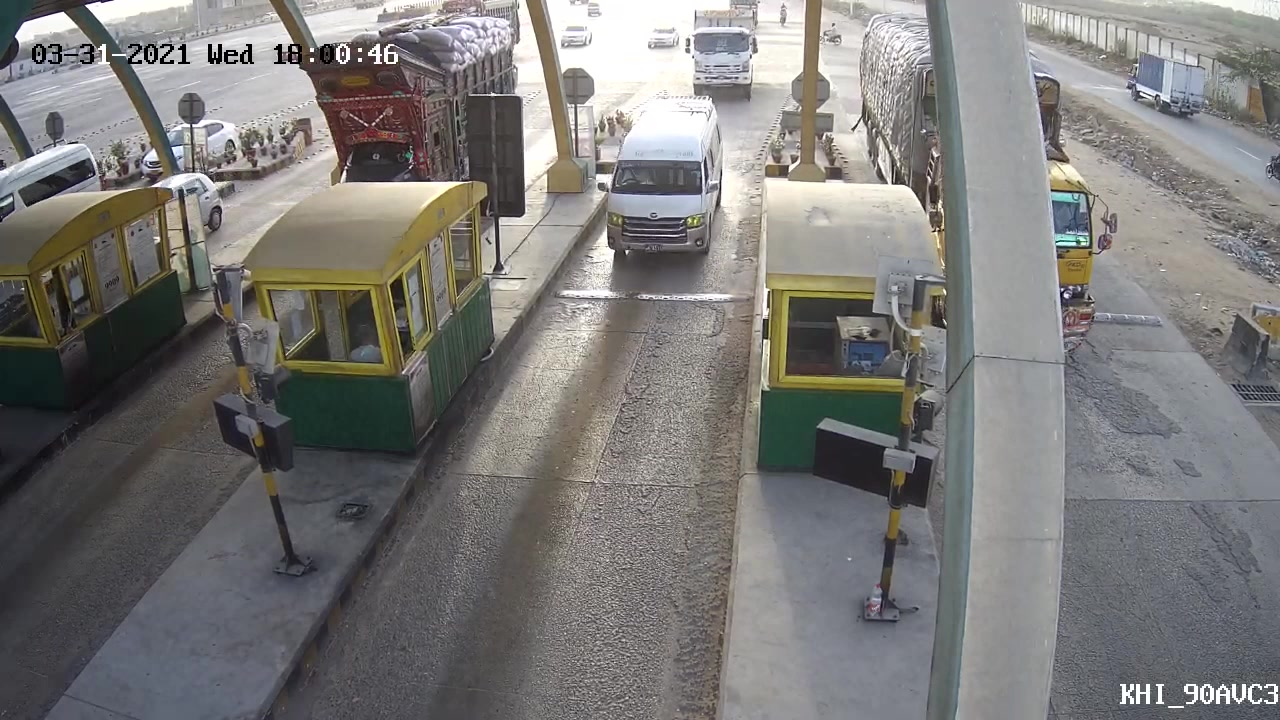F2: (591, 90, 729, 268)
